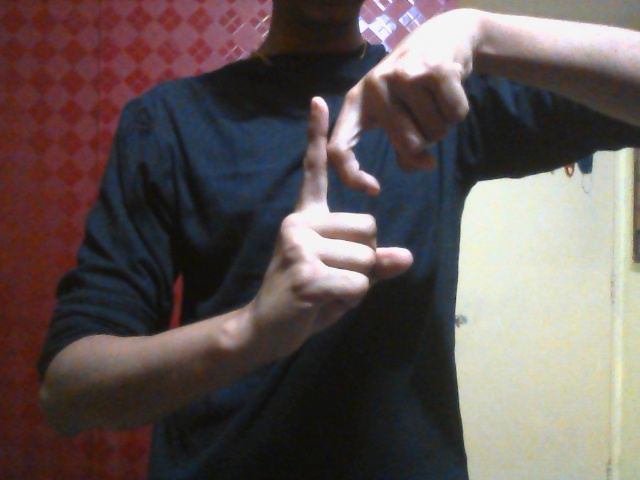K: (250, 63, 465, 354)
